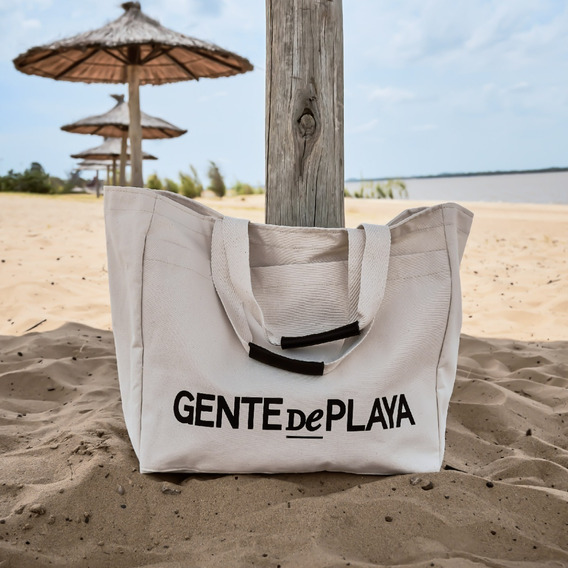cartera: (99, 180, 472, 476)
